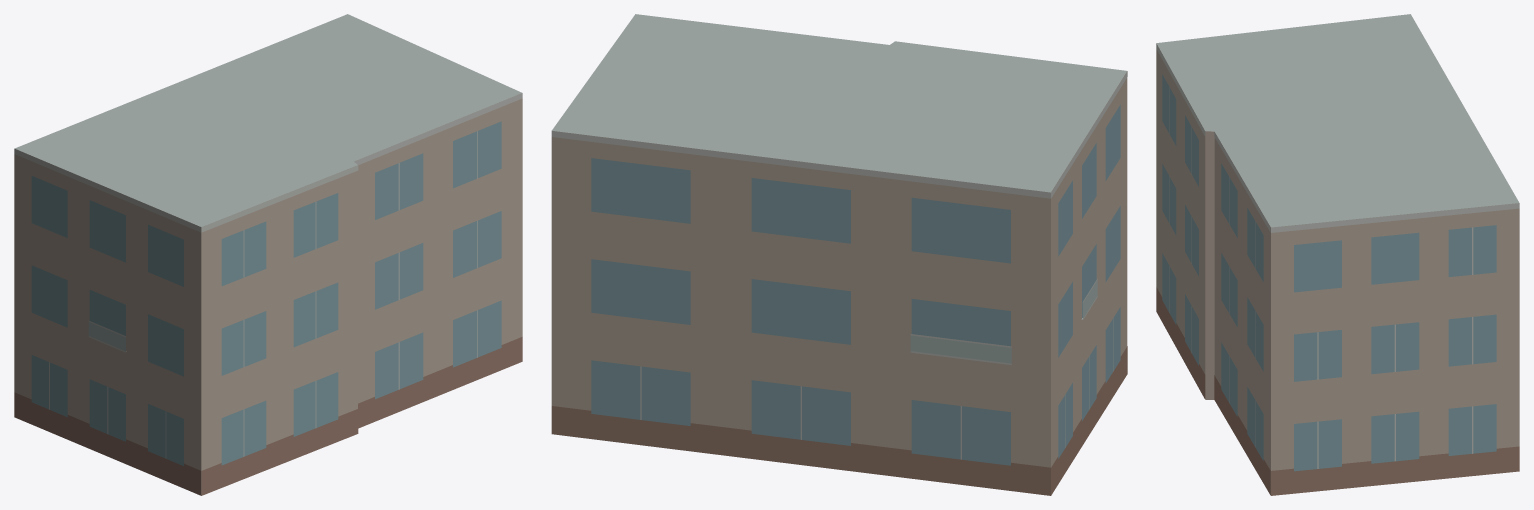
Rendered from survey-upis-32766081.glb.
The picture shows the model from 3 angles, left to right: view 1: azimuth 30°, elevation 25°; view 2: azimuth 150°, elevation 25°; view 3: azimuth 270°, elevation 25°; orthographic projection. The views are drawn at different scales.
Visible parts, largest first — view 1: survey-upis-32766081.tmp; view 2: survey-upis-32766081.tmp; view 3: survey-upis-32766081.tmp.
Boxes of the visible parts, <box> form: survey-upis-32766081.tmp: <box>14,14,522,495</box>; survey-upis-32766081.tmp: <box>551,14,1127,495</box>; survey-upis-32766081.tmp: <box>1156,14,1519,495</box>.
Bounding box in the file's own units: 20.48 × 12 × 14.73.
